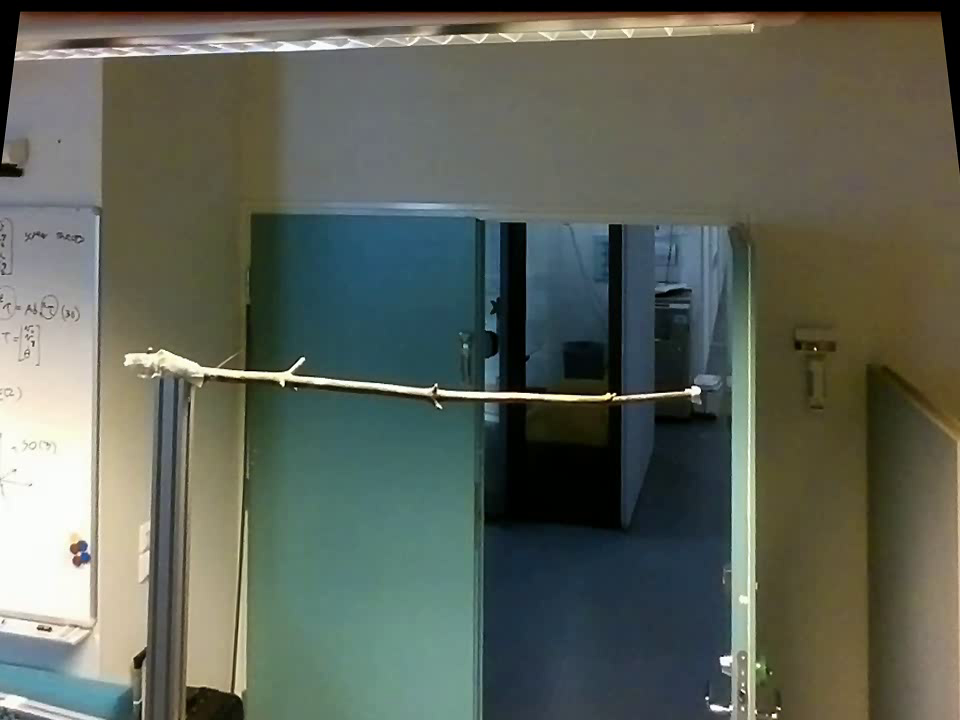aluminum_frame: (138, 380, 189, 716), (82, 199, 109, 638), (1, 606, 105, 646), (1, 192, 107, 216)
branch: (210, 346, 683, 415)
